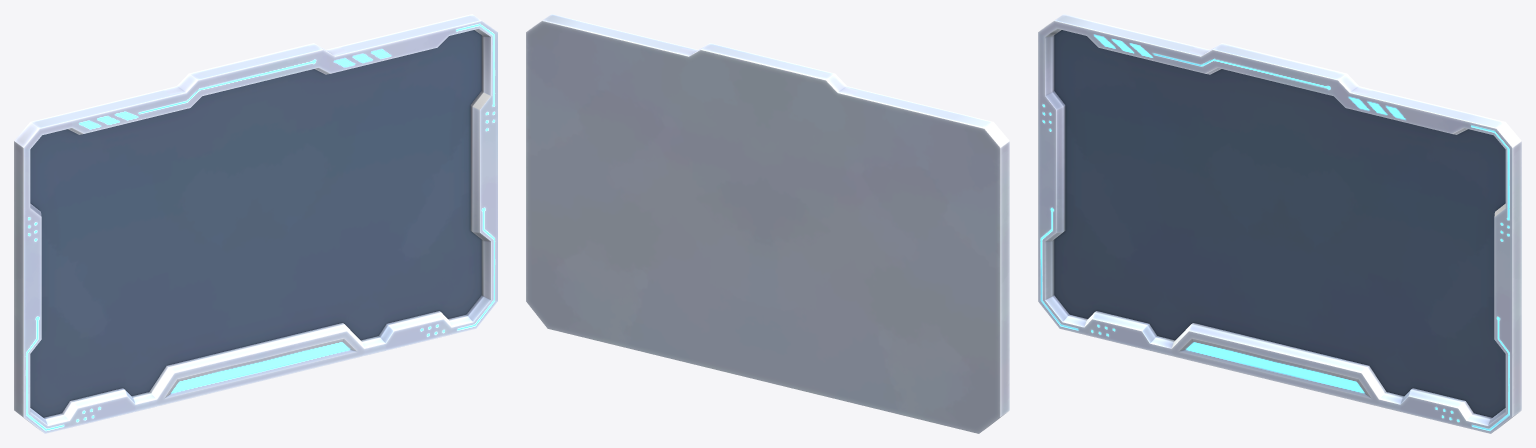
File: obj_screen01.gltf
3 renders of one model, left to right at view 1: azimuth 30°, elevation 25°; view 2: azimuth 150°, elevation 25°; view 3: azimuth 330°, elevation 25°, orthographic.
Parts seen in each view (by area): view 1: obj_screen01; view 2: obj_screen01; view 3: obj_screen01.
Boxes of the visible parts, x1,y1,x2,y2 form: obj_screen01: (14, 14, 497, 433); obj_screen01: (526, 14, 1009, 433); obj_screen01: (1038, 14, 1521, 433).
Size of what is drawn, in the model's own units: 4.16 by 2.65 by 0.1435.
Materials: 1 (1 with a texture image).
